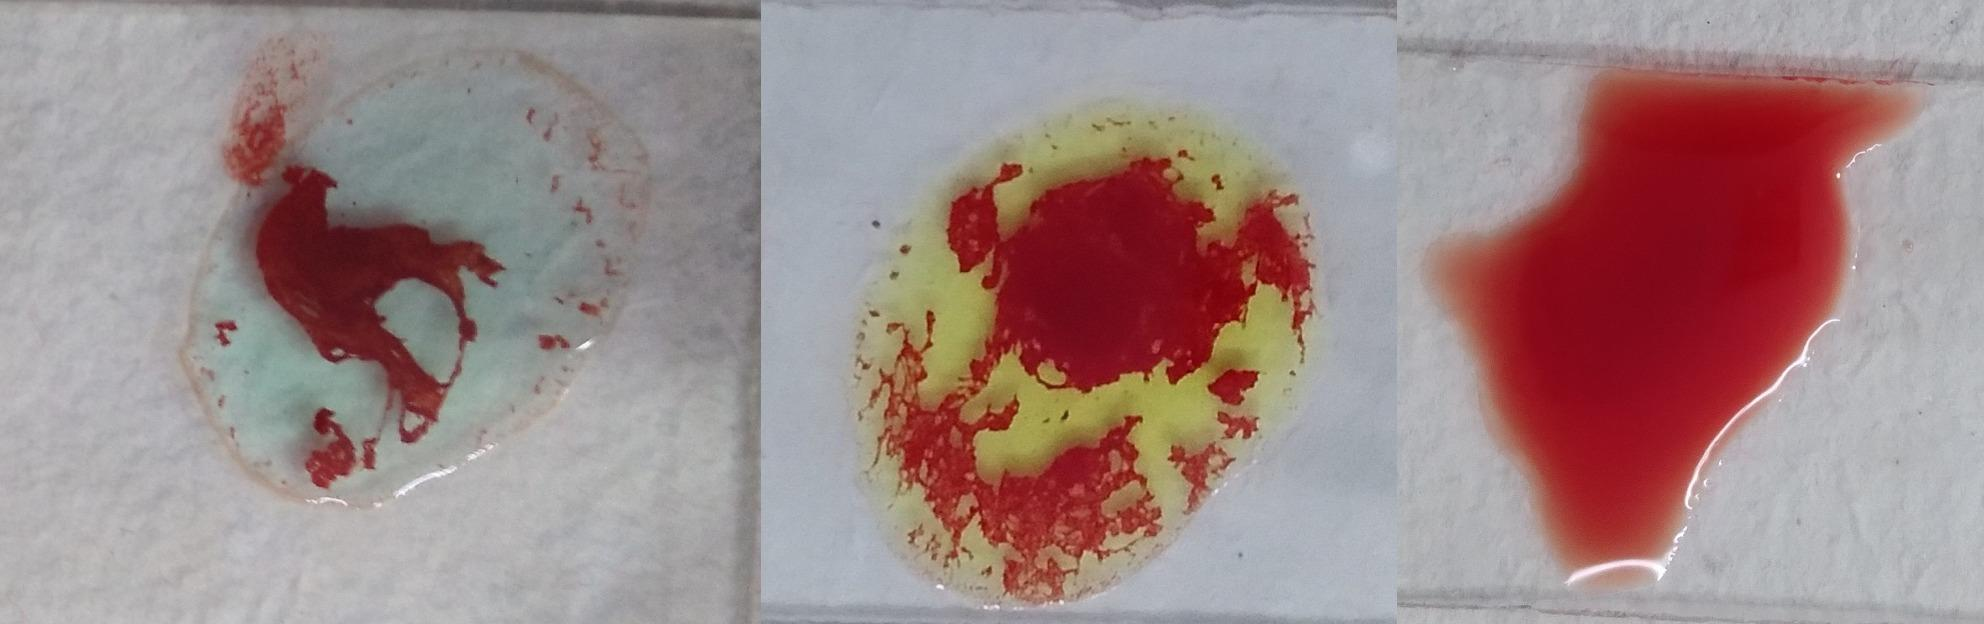A: (182, 41, 630, 508)
B: (852, 106, 1313, 597)
